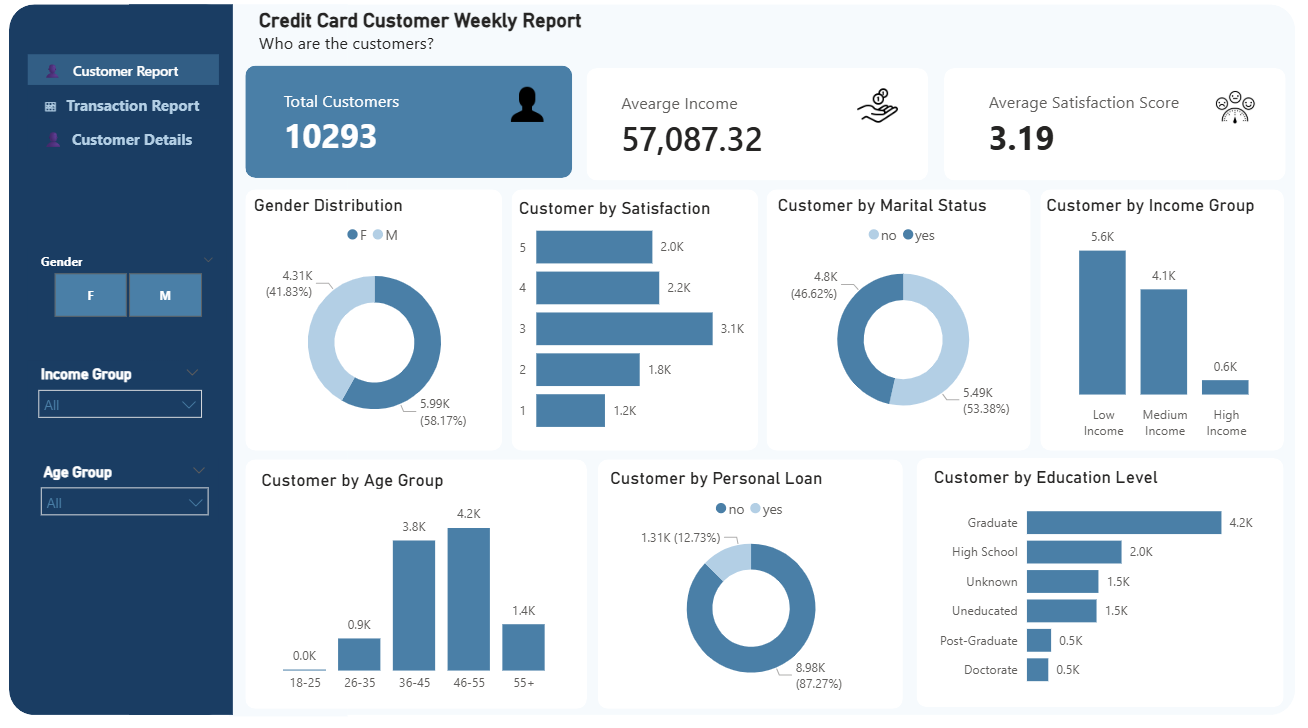

What the dashboard file says about the page in this screenshot:
{"tool":"powerbi","page":{"name":"👤   Customer Report ","canvas":[1280,720],"ordinal":0},"visuals":[{"type":"group","id":"g1","title":"Background ","box":[10,11.4,1258.6,697.1],"z":0},{"type":"shape","box":[10,11.4,217.7,695.5],"z":0,"group":"g3"},{"type":"group","id":"g2","title":"Right Background","box":[225.4,11.6,1043.1,696.9],"z":0,"group":"g1"},{"type":"shape","box":[248.7,11.9,1019.8,695.5],"z":0,"group":"g2"},{"type":"shape","box":[241.4,71.4,320,110],"z":0,"group":"g7"},{"type":"shape","box":[575.3,72.9,334.3,110],"z":0,"group":"g6"},{"type":"shape","box":[924.3,72.9,334.3,110],"z":0,"group":"g5"},{"type":"slicer","fields":{"Values":["customer.Gender"]},"box":[28.6,250,194.3,74.3],"z":0,"group":"g4"},{"type":"group","id":"g3","title":"Left Background","box":[10,11.4,219.1,695.5],"z":1000,"group":"g1"},{"type":"shape","box":[127.4,11.4,101.7,695.5],"z":1000,"group":"g3"},{"type":"shape","box":[225.4,11.6,116,696.9],"z":1000,"group":"g2"},{"type":"cardVisual","title":"Total Customer","fields":{"Data":["customer.Total Customers"]},"box":[249.6,77.1,205.1,100],"z":1000,"group":"g7"},{"type":"cardVisual","fields":{"Data":["customer.Average Satisfaction Score"]},"box":[938.6,77.2,245.7,100],"z":1000,"group":"g5"},{"type":"cardVisual","title":"Average Revenue","fields":{"Data":["customer.Avearge Income"]},"box":[579.8,78.8,242.9,100],"z":1000,"group":"g6"},{"type":"group","id":"g4","title":"Slicer","box":[28.6,250,194.3,268.6],"z":1000},{"type":"slicer","fields":{"Values":["customer.Income Group"]},"box":[28.6,360,180,62.9],"z":1000,"group":"g4"},{"type":"textbox","box":[250,11.4,408.6,67.1],"z":2000},{"type":"image","box":[829.6,88.6,60,40],"z":2000,"group":"g6"},{"type":"image","box":[488.9,90,57.4,40],"z":2000,"group":"g7"},{"type":"image","box":[1174.3,90,70,42],"z":2000,"group":"g5"},{"type":"slicer","fields":{"Values":["customer.Age Group"]},"box":[31.5,455.7,184.3,62.9],"z":2000,"group":"g4"},{"type":"pageNavigator","box":[28.6,60,187.1,100],"z":3000},{"type":"shape","box":[241.4,455.7,334.3,244.3],"z":4000},{"type":"shape","box":[241.4,191.4,251.4,255.7],"z":5000},{"type":"shape","box":[1018.6,191.4,238.6,255.7],"z":6000},{"type":"shape","box":[585.7,455.7,298.6,244.3],"z":7000},{"type":"shape","box":[897.4,454.5,359.2,243.8],"z":8000},{"type":"shape","box":[501.4,191.4,241.4,255.7],"z":9000},{"type":"shape","box":[751.4,191.4,258.6,255.7],"z":10000},{"type":"donutChart","title":"Gender Distribution","fields":{"Category":["customer.Gender"],"Y":["CountNonNull(customer.Client_Number)"]},"box":[244.3,197.1,245.7,241.4],"z":11000},{"type":"clusteredColumnChart","title":"Customer by Age Group","fields":{"Y":["CountNonNull(customer.Client_Number)"],"Category":["customer.Age Group"]},"box":[251.4,465.7,310,227.1],"z":12000},{"type":"clusteredColumnChart","title":"Customer by Income Group","fields":{"Y":["CountNonNull(customer.Client_Number)"],"Category":["customer.Income Group"]},"box":[1020,197.1,234.3,247.1],"z":13000},{"type":"clusteredBarChart","title":"Customer by Education Level","fields":{"Y":["CountNonNull(customer.Client_Number)"],"Category":["customer.Education_Level"]},"box":[910,462.9,334.3,227.1],"z":14000},{"type":"clusteredBarChart","title":"Customer by Satisfaction","fields":{"Category":["customer.Customer_Satisfaction_Score"],"Y":["CountNonNull(customer.Client_Number)"]},"box":[504.3,200,238.6,237.1],"z":15000},{"type":"donutChart","title":"Customer by Personal Loan","fields":{"Category":["customer.Personal_loan"],"Y":["CountNonNull(customer.Client_Number)"]},"box":[592.9,464.3,285.7,225.7],"z":16000},{"type":"donutChart","title":"Customer by Marital Status","fields":{"Category":["customer.House_Owner"],"Y":["CountNonNull(customer.Client_Number)"]},"box":[757.1,197.1,255.7,235.7],"z":17000},{"type":"group","id":"g5","title":"Card 3","box":[924.3,72.9,334.3,110],"z":18000},{"type":"group","id":"g6","title":"Card 2","box":[575.3,72.9,334.3,110],"z":19000},{"type":"group","id":"g7","title":"Card 1","box":[241.4,71.4,320,110],"z":20000}]}

Visuals, with their boxes on the page's 1280x720 design canvas (x1, y1, x2, y2). These are canvas units, not pixel positions in the 1308x728 screenshot, which may show the page scaled, cropped or inside an application window:
"Background " group: locate(10, 11, 1269, 708)
shape: locate(10, 11, 228, 707)
"Right Background" group: locate(225, 12, 1268, 708)
shape: locate(249, 12, 1268, 707)
shape: locate(241, 71, 561, 181)
shape: locate(575, 73, 910, 183)
shape: locate(924, 73, 1259, 183)
slicer - customer.Gender: locate(29, 250, 223, 324)
"Left Background" group: locate(10, 11, 229, 707)
shape: locate(127, 11, 229, 707)
shape: locate(225, 12, 341, 708)
"Total Customer" cardVisual: locate(250, 77, 455, 177)
cardVisual - customer.Average Satisfaction Score: locate(939, 77, 1184, 177)
"Average Revenue" cardVisual: locate(580, 79, 823, 179)
"Slicer" group: locate(29, 250, 223, 519)
slicer - customer.Income Group: locate(29, 360, 209, 423)
textbox: locate(250, 11, 659, 78)
image: locate(830, 89, 890, 129)
image: locate(489, 90, 546, 130)
image: locate(1174, 90, 1244, 132)
slicer - customer.Age Group: locate(32, 456, 216, 519)
pageNavigator: locate(29, 60, 216, 160)
shape: locate(241, 456, 576, 700)
shape: locate(241, 191, 493, 447)
shape: locate(1019, 191, 1257, 447)
shape: locate(586, 456, 884, 700)
shape: locate(897, 454, 1257, 698)
shape: locate(501, 191, 743, 447)
shape: locate(751, 191, 1010, 447)
"Gender Distribution" donutChart: locate(244, 197, 490, 438)
"Customer by Age Group" clusteredColumnChart: locate(251, 466, 561, 693)
"Customer by Income Group" clusteredColumnChart: locate(1020, 197, 1254, 444)
"Customer by Education Level" clusteredBarChart: locate(910, 463, 1244, 690)
"Customer by Satisfaction" clusteredBarChart: locate(504, 200, 743, 437)
"Customer by Personal Loan" donutChart: locate(593, 464, 879, 690)
"Customer by Marital Status" donutChart: locate(757, 197, 1013, 433)
"Card 3" group: locate(924, 73, 1259, 183)
"Card 2" group: locate(575, 73, 910, 183)
"Card 1" group: locate(241, 71, 561, 181)
